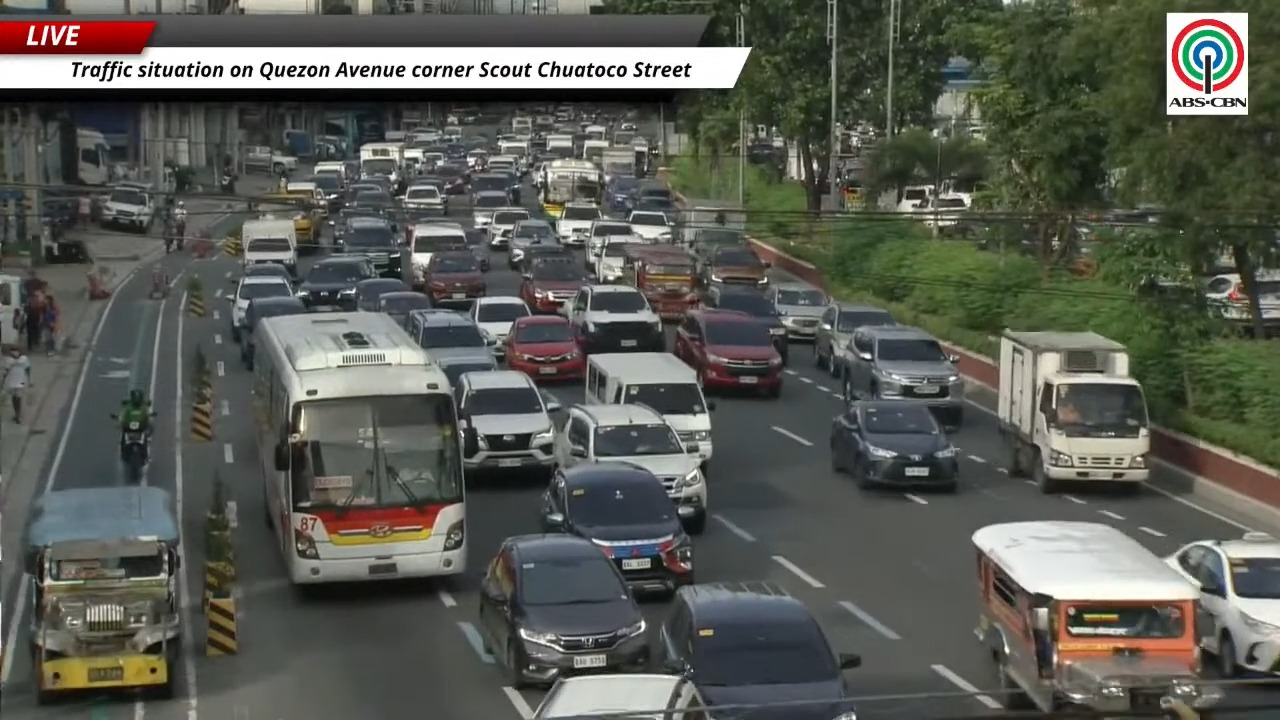bus: (253, 313, 466, 584), (540, 159, 603, 218)
car: (659, 582, 861, 719), (478, 534, 649, 688), (541, 462, 693, 593), (556, 403, 707, 534), (1166, 532, 1279, 678), (841, 325, 964, 429), (830, 400, 958, 491), (454, 370, 559, 472), (673, 309, 782, 397), (532, 672, 708, 719), (703, 285, 788, 365), (568, 285, 665, 354), (813, 302, 896, 377), (503, 315, 584, 379), (239, 296, 306, 369), (405, 309, 495, 361), (296, 255, 376, 310), (229, 276, 293, 341), (334, 217, 400, 277), (764, 282, 829, 341), (520, 257, 586, 313), (469, 296, 531, 355), (424, 250, 486, 305), (700, 246, 769, 287), (433, 347, 499, 386), (584, 219, 633, 270), (508, 219, 557, 269), (331, 206, 385, 248), (557, 202, 602, 246), (517, 244, 575, 277), (355, 277, 410, 311), (376, 290, 429, 325), (487, 207, 530, 248), (348, 178, 394, 212), (471, 190, 509, 229), (626, 210, 672, 242), (402, 183, 448, 214), (470, 173, 513, 206), (433, 159, 468, 195), (606, 177, 638, 212), (464, 228, 490, 271), (241, 263, 293, 282)
motorcycle: (120, 420, 149, 481), (164, 220, 185, 253), (219, 170, 235, 193)
truck: (996, 329, 1149, 493), (680, 200, 745, 246), (242, 146, 297, 175), (600, 146, 635, 182)
